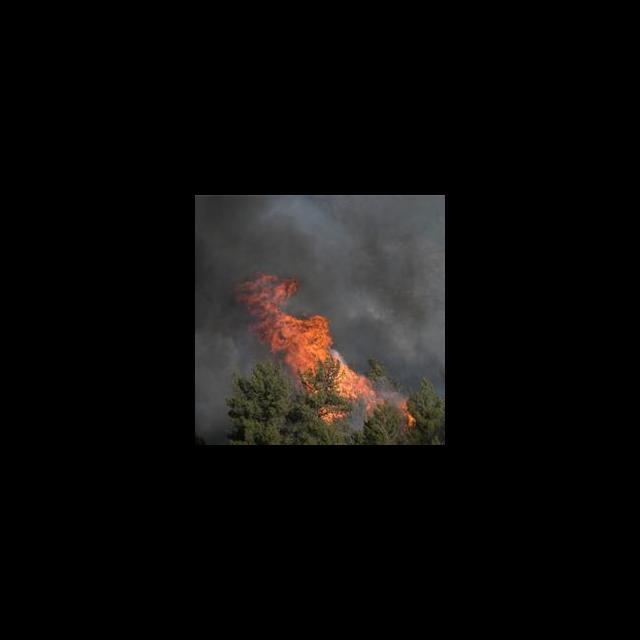Fire: (245, 283, 378, 425), (399, 398, 416, 432)
Smoke: (197, 195, 444, 274), (195, 282, 240, 437), (382, 280, 444, 391)
